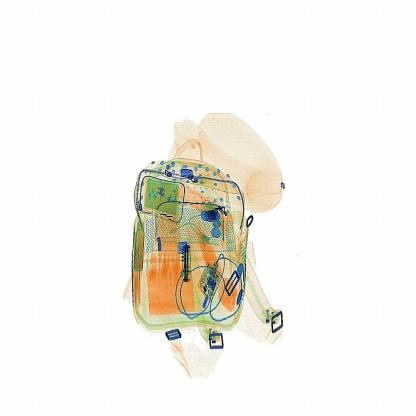scissors: (174, 237, 198, 287)
